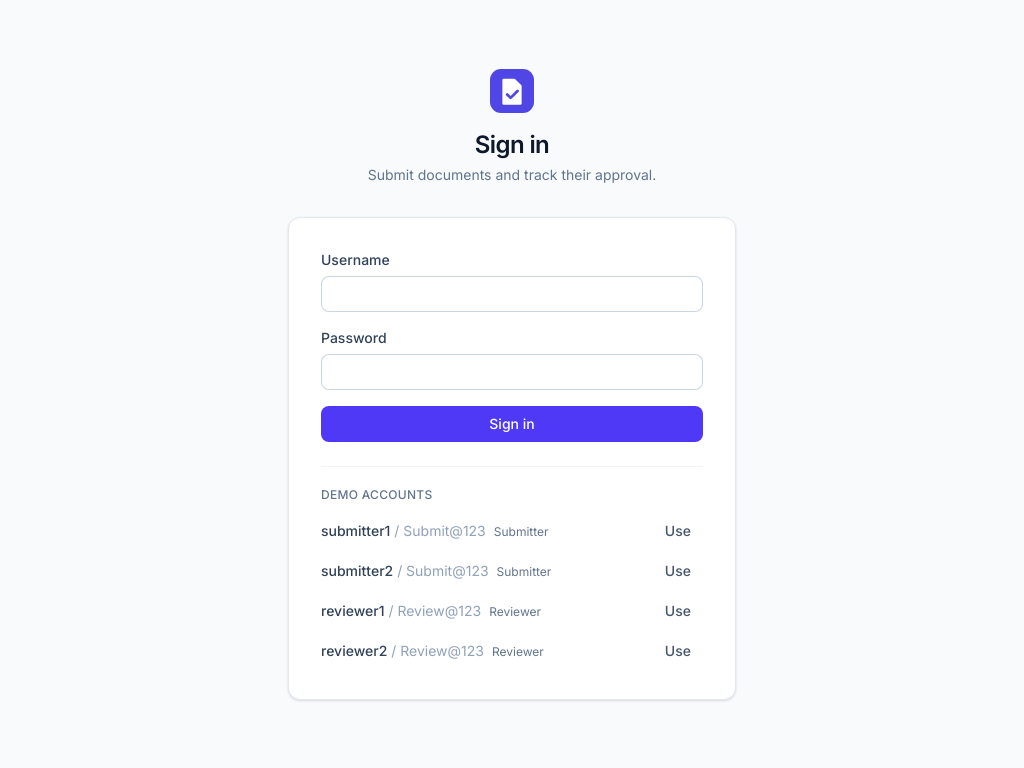
LoginPage › sends a submitter to their submissions page
The width and height of the screenshot is (1024, 768).
Type "submitter1" into the field labelled "Username". click: (512, 294)
box: [321,276,703,312]
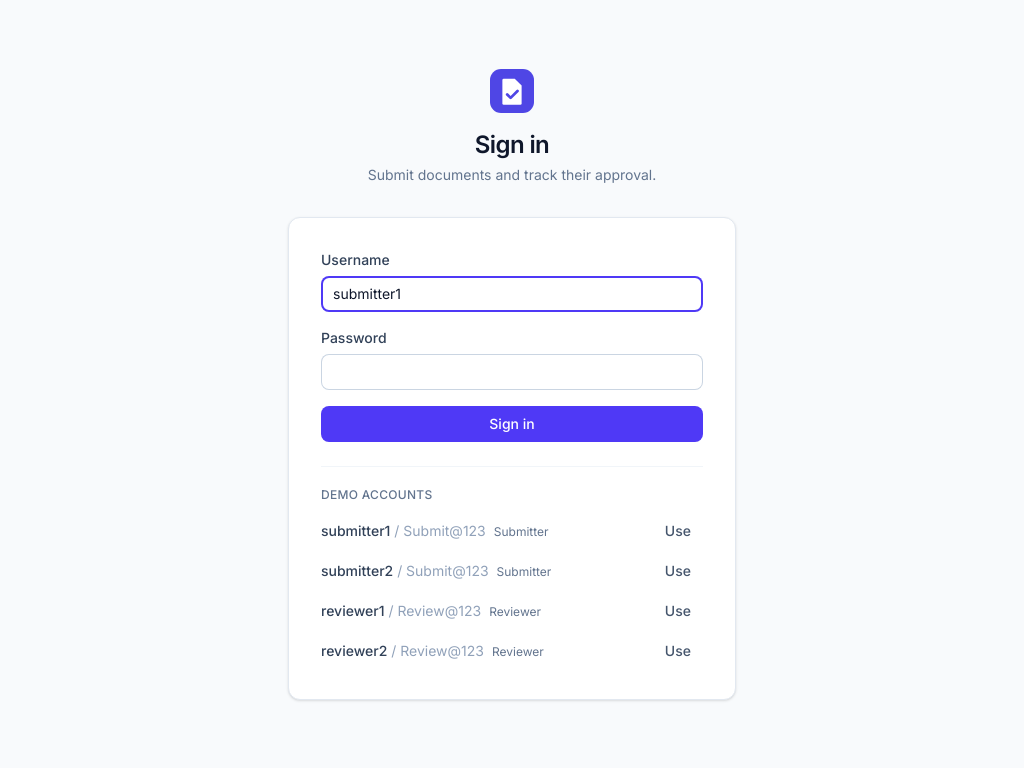
Type "Submit@123" into the password field labelled "Password". click: (512, 372)
box: [321,354,703,390]
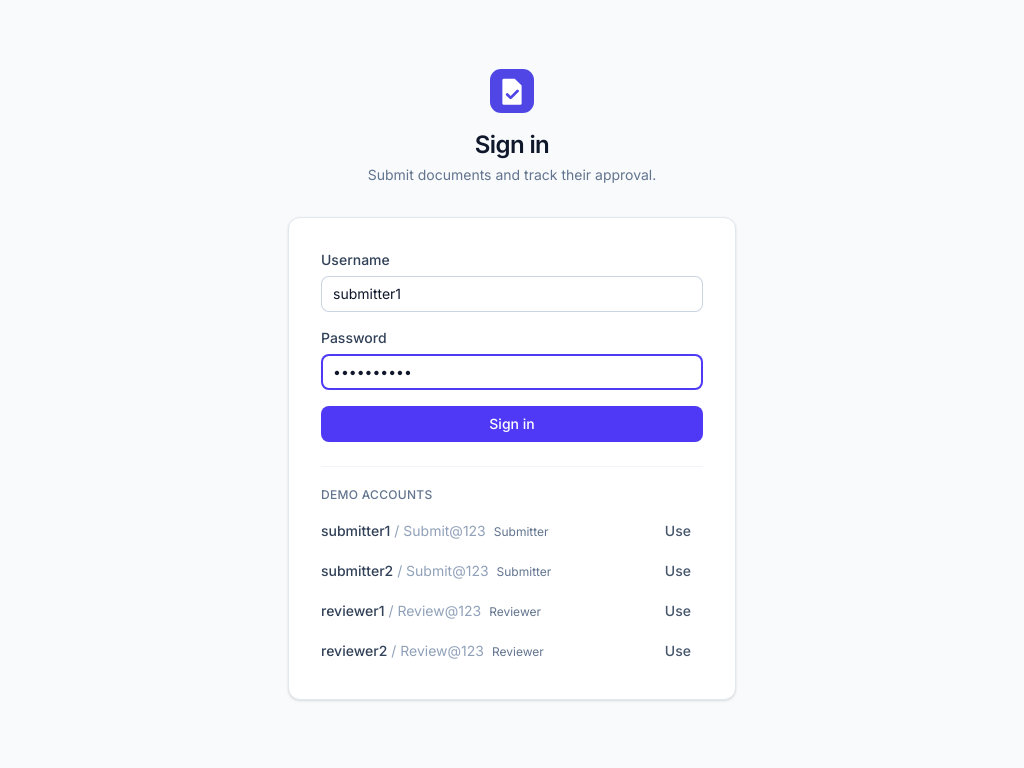
Click the button "Sign in". click: (512, 424)
box: [321,406,703,442]
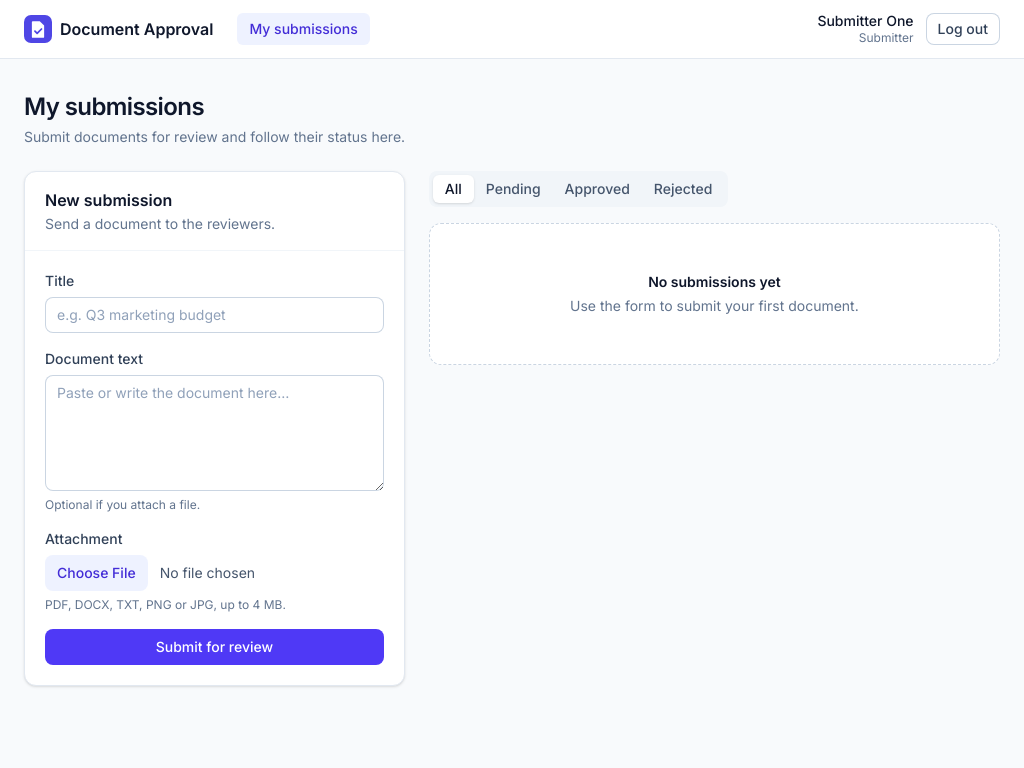
Expected: the heading "My submissions" is shown, [24,92,204,120]
